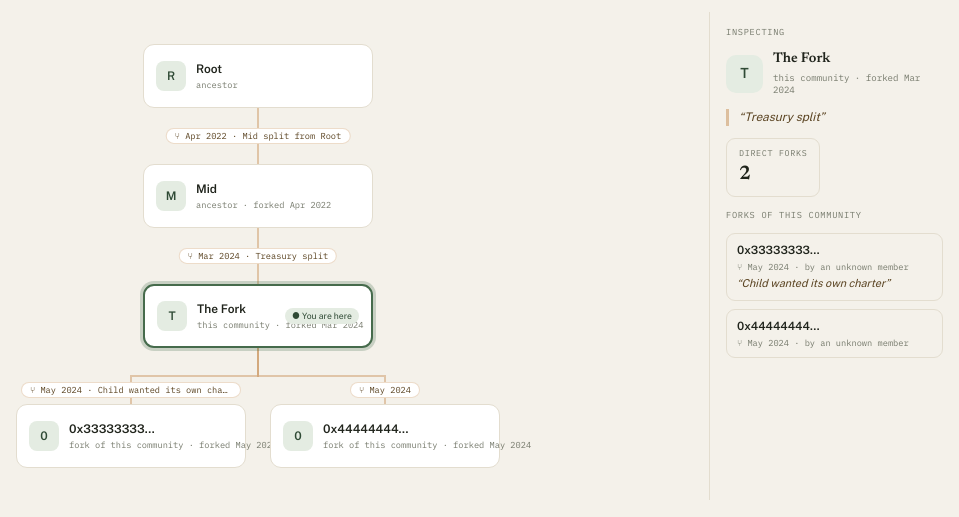
it: ForkGenealogyGraph › unknown node inspect shows the not-a-member line and no Open action
Click the button with class "genealogy-card" that starts with "0x44444444…" at {"x": 385, "y": 436}, box [270,404,500,468]
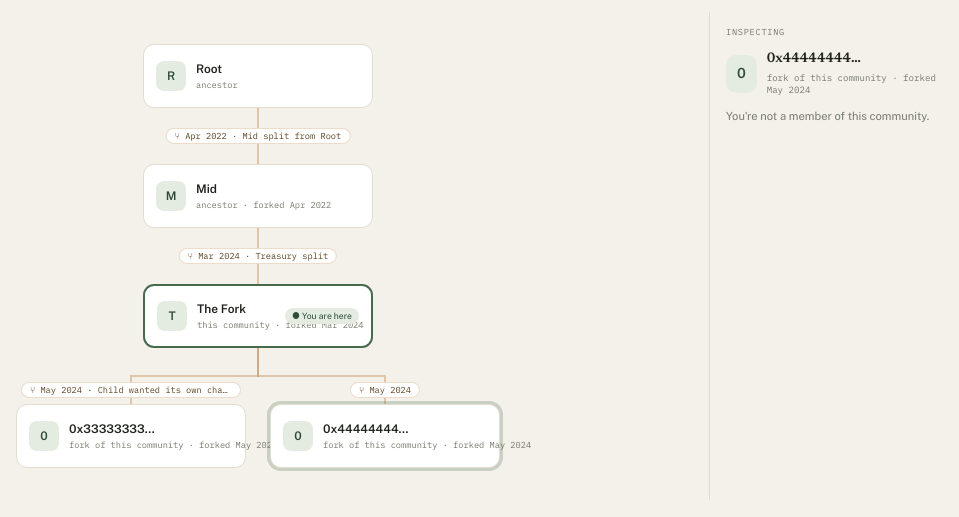
Expected: the element with class "genealogy-inspect" shows "You're not a member", [726,109,929,123]
